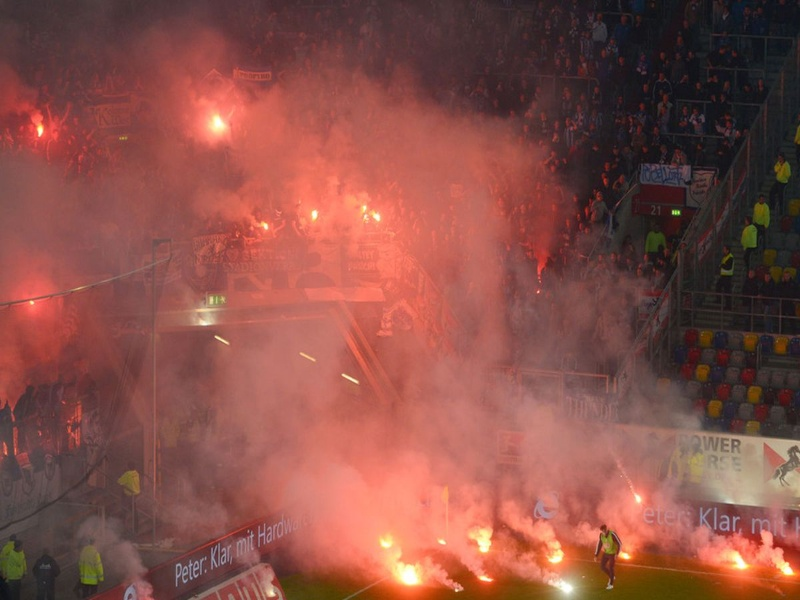smoke: (131, 141, 557, 498)
